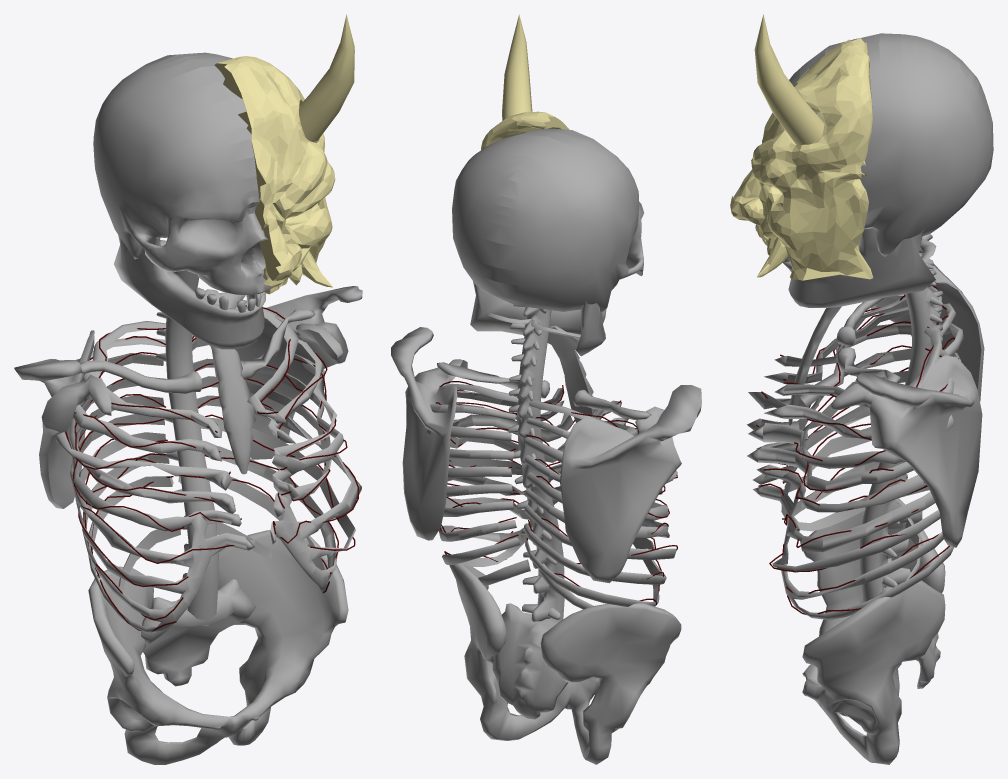
File: Body_koh.fbx
3 renders of one model, left to right at view 1: azimuth 30°, elevation 25°; view 2: azimuth 150°, elevation 25°; view 3: azimuth 270°, elevation 25°, orthographic. The views are drawn at different scales.
Visible parts, largest first — view 1: polySurface71, polySurface25, polySurface62, oni_mask1, Jaw, polySurface64, polySurface56, polySurface40, polySurface43, polySurface67, polySurface65, polySurface22 (+5 smaller); view 2: polySurface71, polySurface25, polySurface56, polySurface62, polySurface64, polySurface40, polySurface43, oni_mask1, Jaw, polySurface22, polySurface65, polySurface58 (+5 smaller); view 3: oni_mask1, polySurface71, polySurface25, polySurface64, polySurface62, Jaw, polySurface40, polySurface65, polySurface67, polySurface56, polySurface68, polySurface58 (+4 smaller).
Boxes of the visible parts, x1,y1,x2,y2 form: polySurface71: [93, 52, 271, 294]; polySurface25: [88, 530, 348, 764]; polySurface62: [70, 376, 361, 632]; oni_mask1: [214, 14, 354, 295]; Jaw: [114, 235, 265, 349]; polySurface64: [212, 286, 362, 459]; polySurface56: [14, 330, 111, 508]; polySurface40: [165, 270, 218, 625]; polySurface43: [141, 578, 256, 686]; polySurface67: [69, 358, 343, 513]; polySurface65: [56, 337, 336, 490]; polySurface22: [160, 239, 255, 474]; polySurface71: [452, 128, 643, 312]; polySurface25: [449, 563, 681, 764]; polySurface56: [560, 385, 701, 583]; polySurface62: [439, 458, 676, 606]; polySurface64: [391, 327, 467, 540]; polySurface40: [516, 307, 564, 621]; polySurface43: [492, 603, 568, 719]; oni_mask1: [481, 14, 569, 149]; Jaw: [470, 281, 606, 356]; polySurface22: [487, 312, 597, 422]; polySurface65: [426, 413, 677, 483]; polySurface58: [440, 383, 637, 436]; oni_mask1: [730, 14, 873, 280]; polySurface71: [755, 33, 993, 256]; polySurface25: [802, 498, 945, 764]; polySurface64: [831, 355, 982, 547]; polySurface62: [753, 371, 953, 619]; Jaw: [783, 226, 935, 307]; polySurface40: [860, 253, 942, 601]; polySurface65: [748, 323, 963, 468]; polySurface67: [747, 348, 961, 493]; polySurface56: [871, 253, 984, 401]; polySurface68: [764, 303, 955, 439]; polySurface58: [774, 286, 941, 407].
Size of the model in its own units: 109 by 235 by 72.77.
